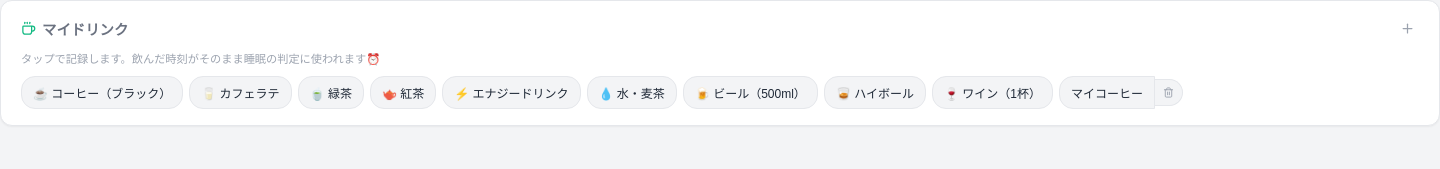
Scenario: DrinkQuickLog › deletes a custom preset and restores it if the delete fails
This screenshot has width=1440, height=169.
Expected: the button "マイコーヒー" is shown, [1059,76,1155,109]
Click the button named "マイコーヒーを削除" at x=1169, y=92, box [1155,79,1183,106]
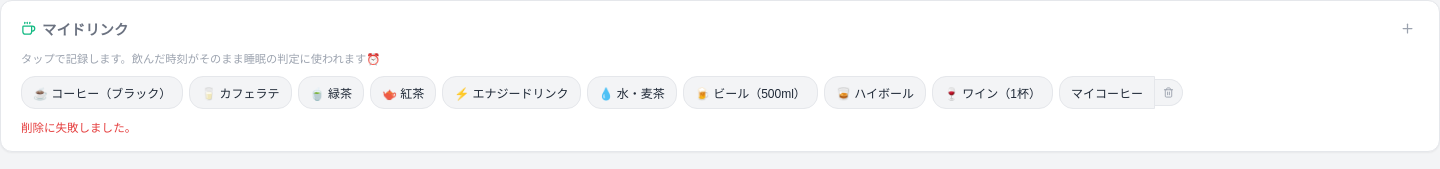
Expected: the button "マイコーヒー" is shown, [1059,76,1155,109]
Expected: the message shows "削除に失敗しました", [21,121,136,135]
